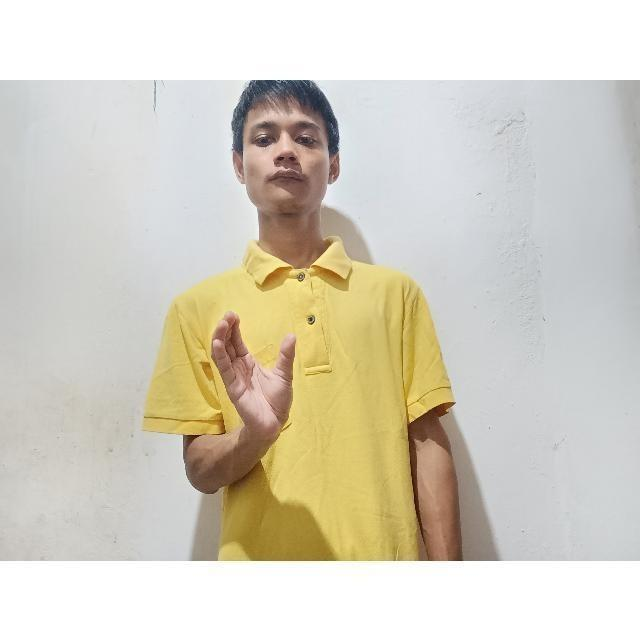U: (201, 309, 305, 409)
